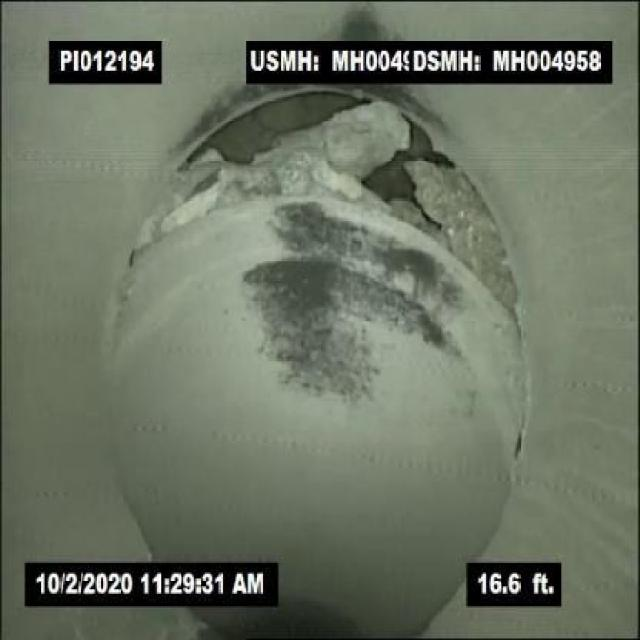Hole: (124, 89, 522, 297)
